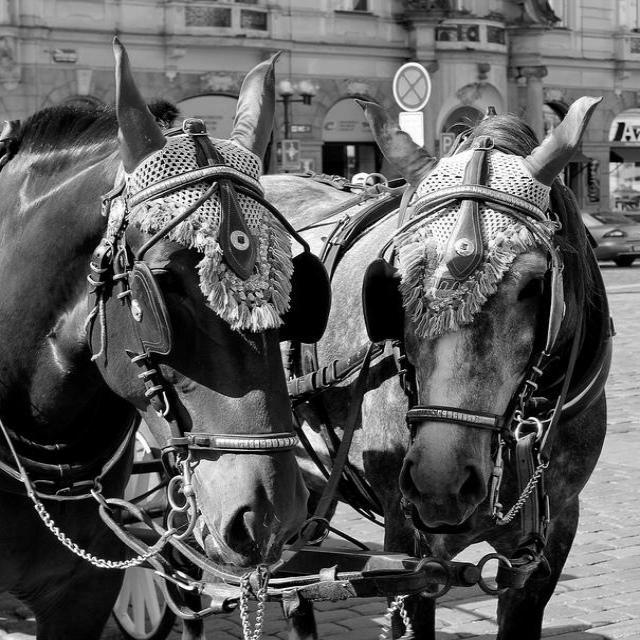vehicle: (582, 211, 640, 267)
